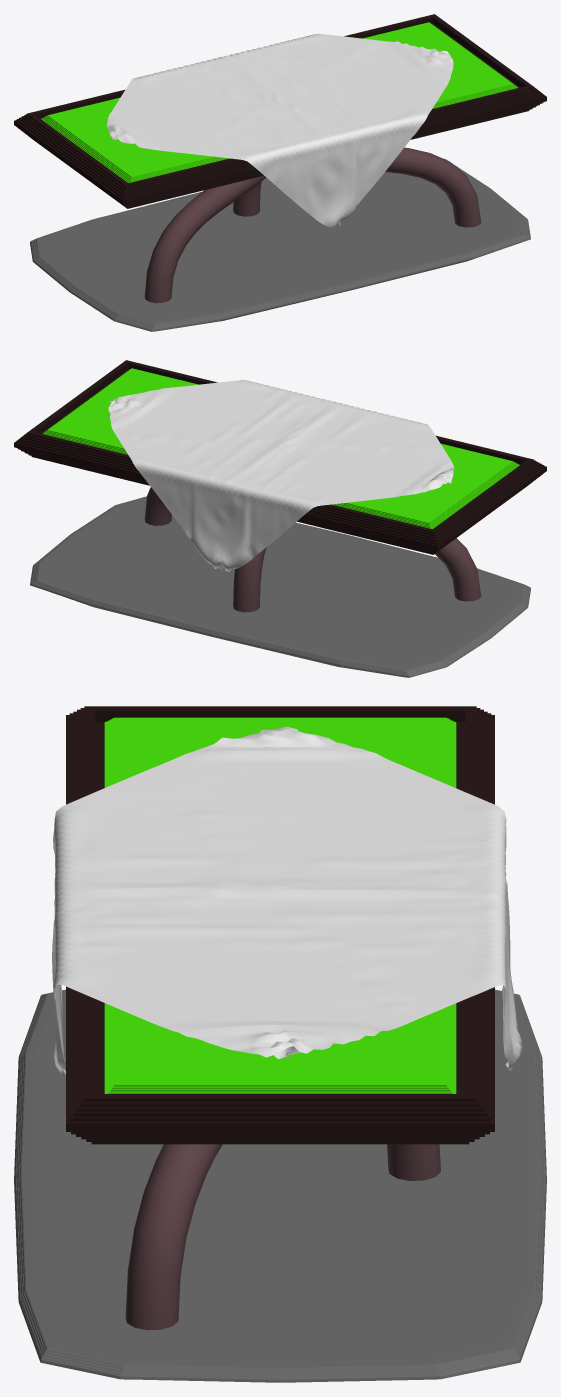
The model's file is sto fensi.fbx.
3 renders of one model, top to bottom at view 1: azimuth 30°, elevation 25°; view 2: azimuth 150°, elevation 25°; view 3: azimuth 270°, elevation 25°, orthographic. The views are drawn at different scales.
Parts seen in each view (by area): view 1: Plane.005; view 2: Plane.005; view 3: Plane.005.
Part boxes in pixels (bbox=[...]): Plane.005: bbox=[14, 14, 546, 331]; Plane.005: bbox=[14, 360, 546, 677]; Plane.005: bbox=[14, 706, 546, 1382].
Size of the model in its own units: 360 by 127 by 199.
